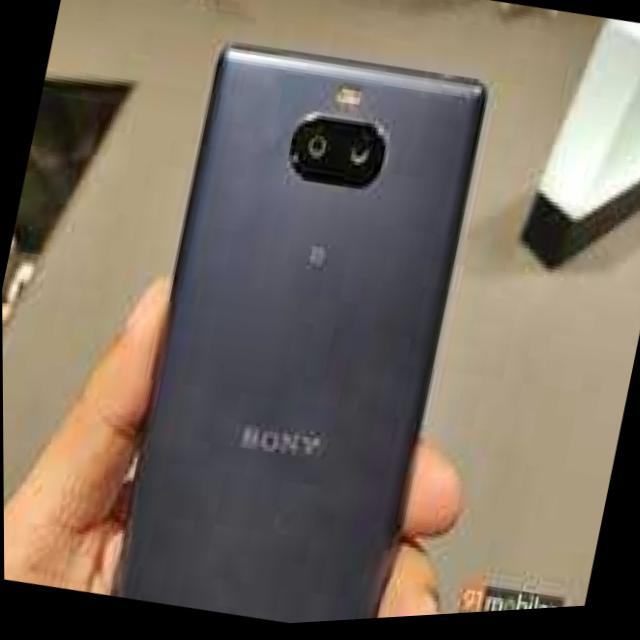Smartphone: (113, 33, 490, 626)
